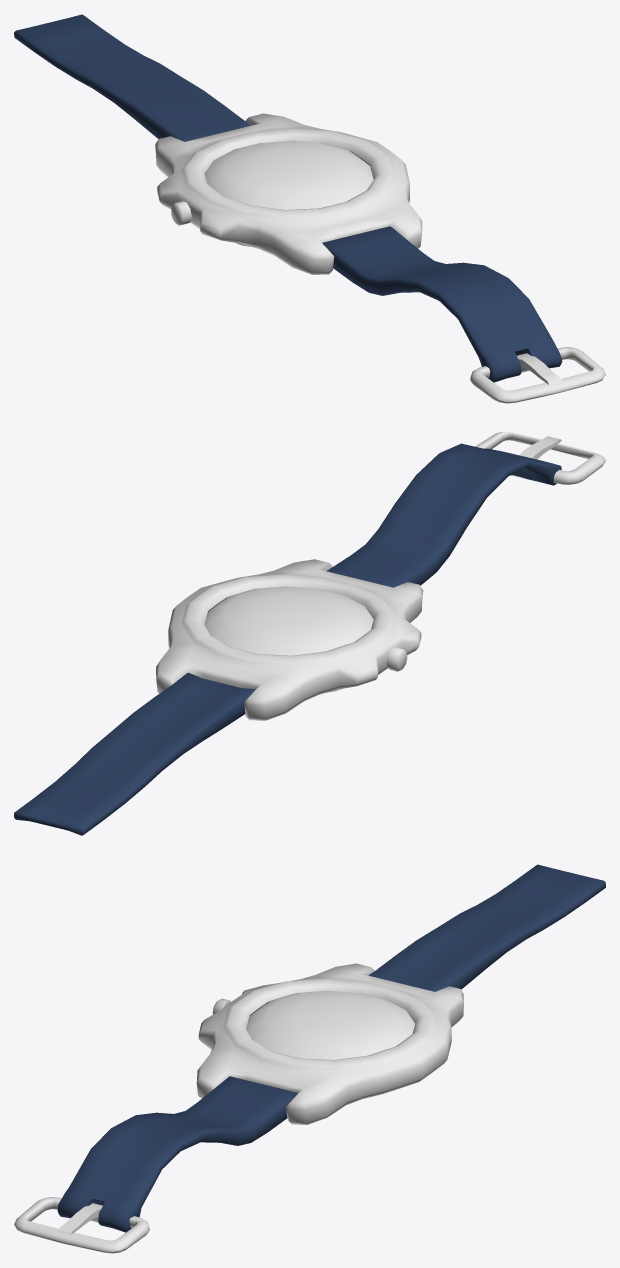
File: Watch.fbx
3 renders of one model, top to bottom at view 1: azimuth 30°, elevation 25°; view 2: azimuth 150°, elevation 25°; view 3: azimuth 330°, elevation 25°, orthographic.
Parts seen in each view (by area): view 1: Clock; view 2: Clock; view 3: Clock.
Boxes of the visible parts, x1=… form: Clock: x1=14, y1=14, x2=605, y2=403; Clock: x1=14, y1=432, x2=605, y2=835; Clock: x1=14, y1=864, x2=605, y2=1253.
Bounding box in the file's own units: 27.88 × 7.14 × 113.
